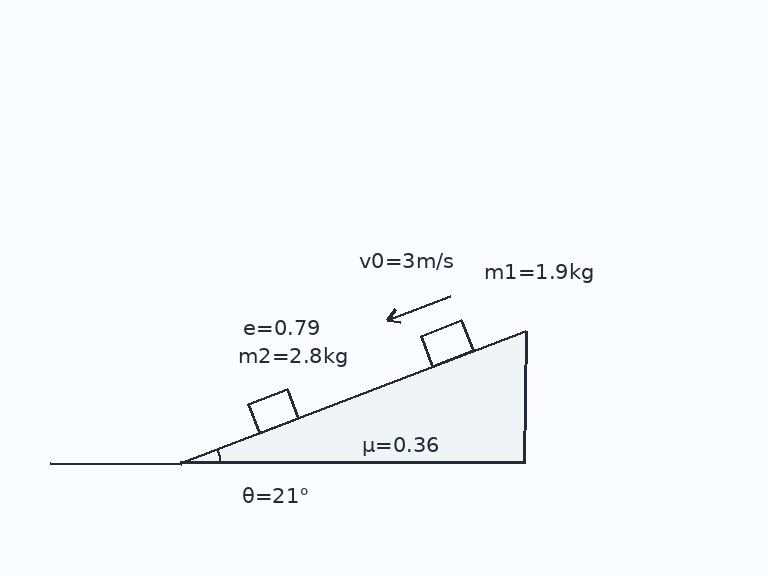block: (419, 318, 475, 368), (246, 387, 300, 435)
ramp: (178, 328, 527, 465)
